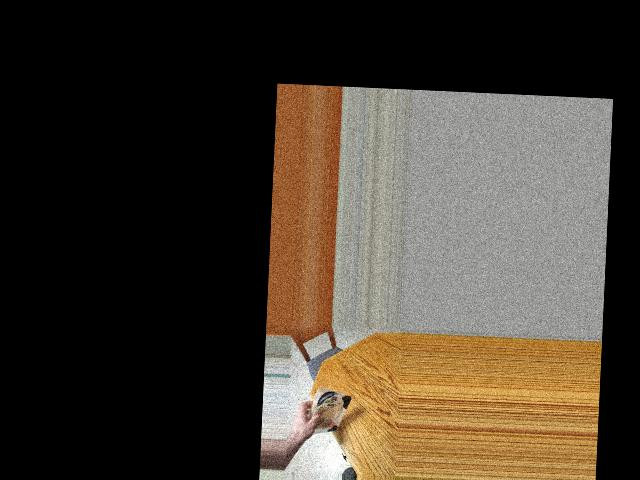cheese: (310, 389, 348, 440)
